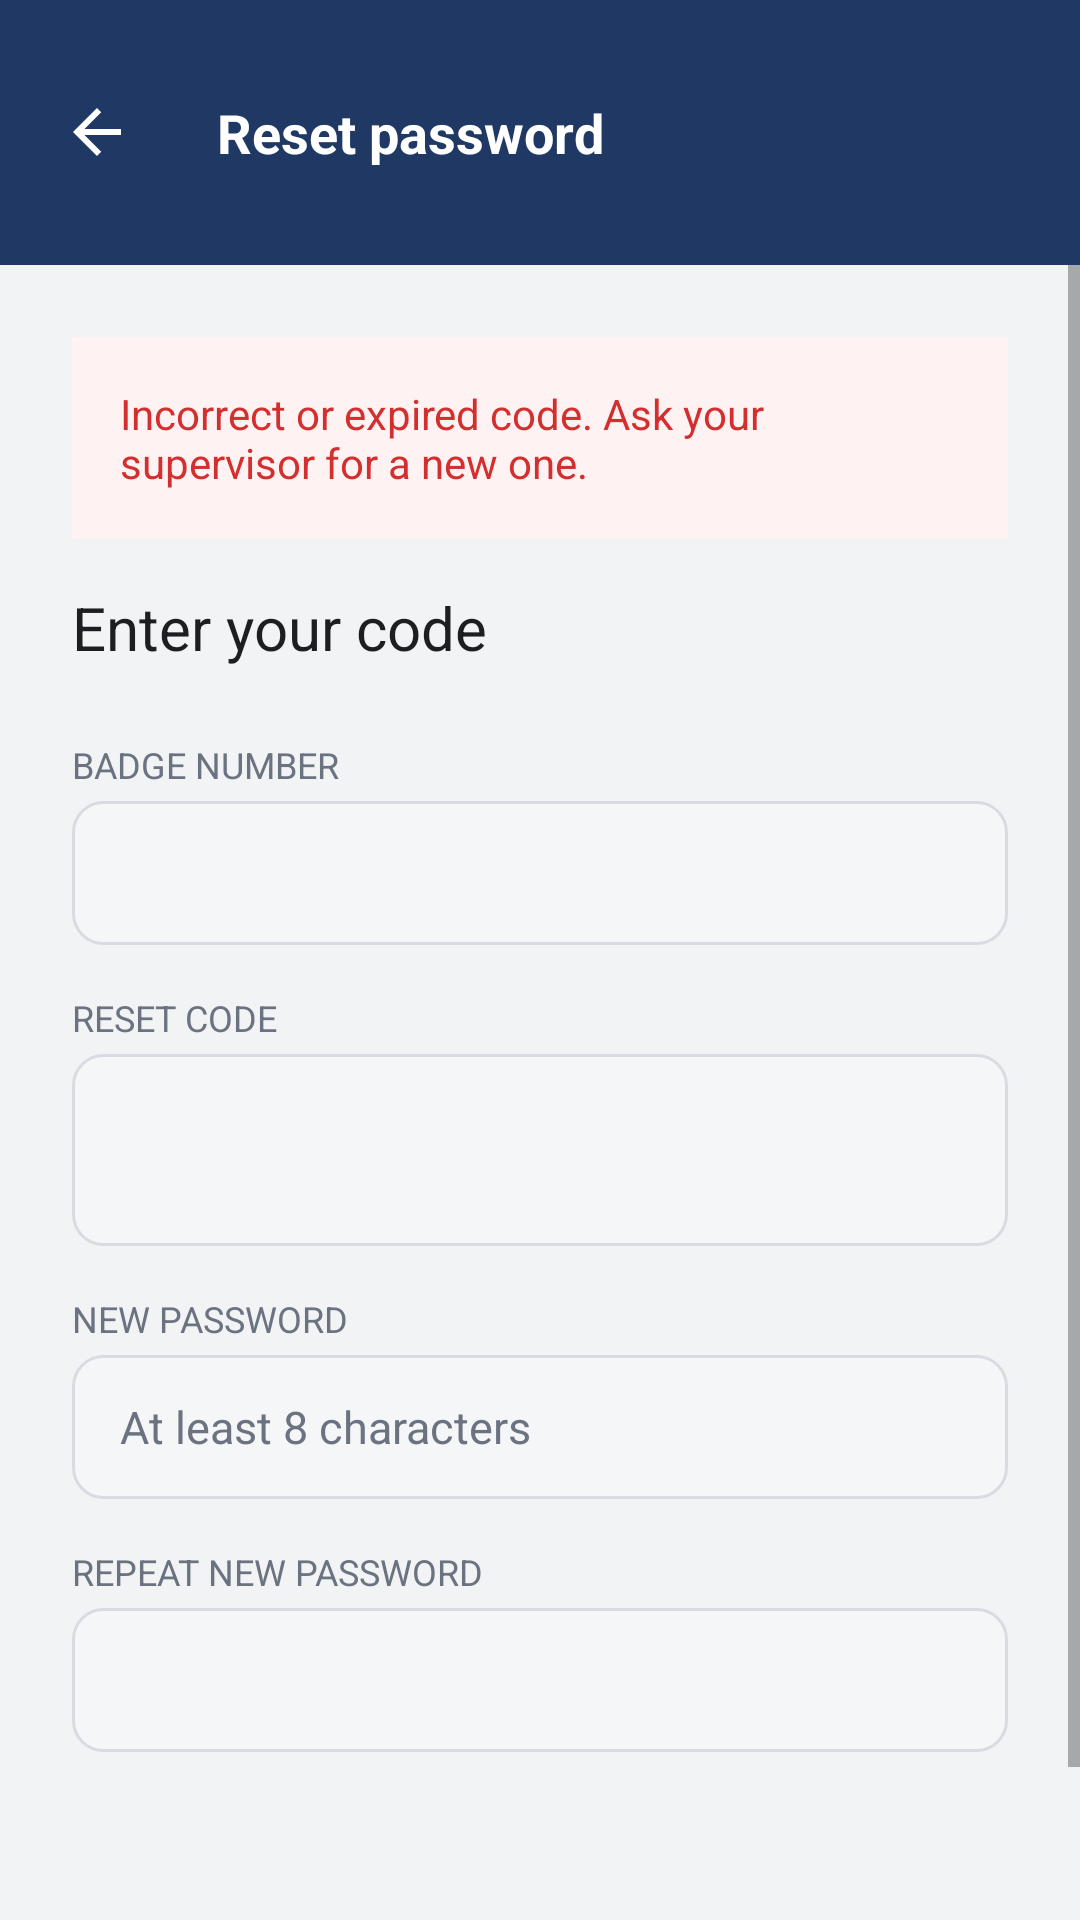

Point at icon controls on the screen. Image size 1080px×1920px, points as point (x, y).
Back: point (97, 132)
